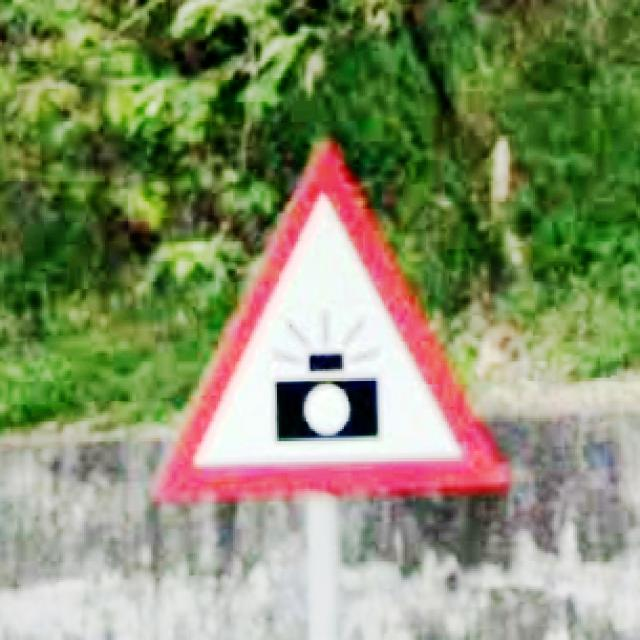speedcamera: (147, 136, 512, 507)
